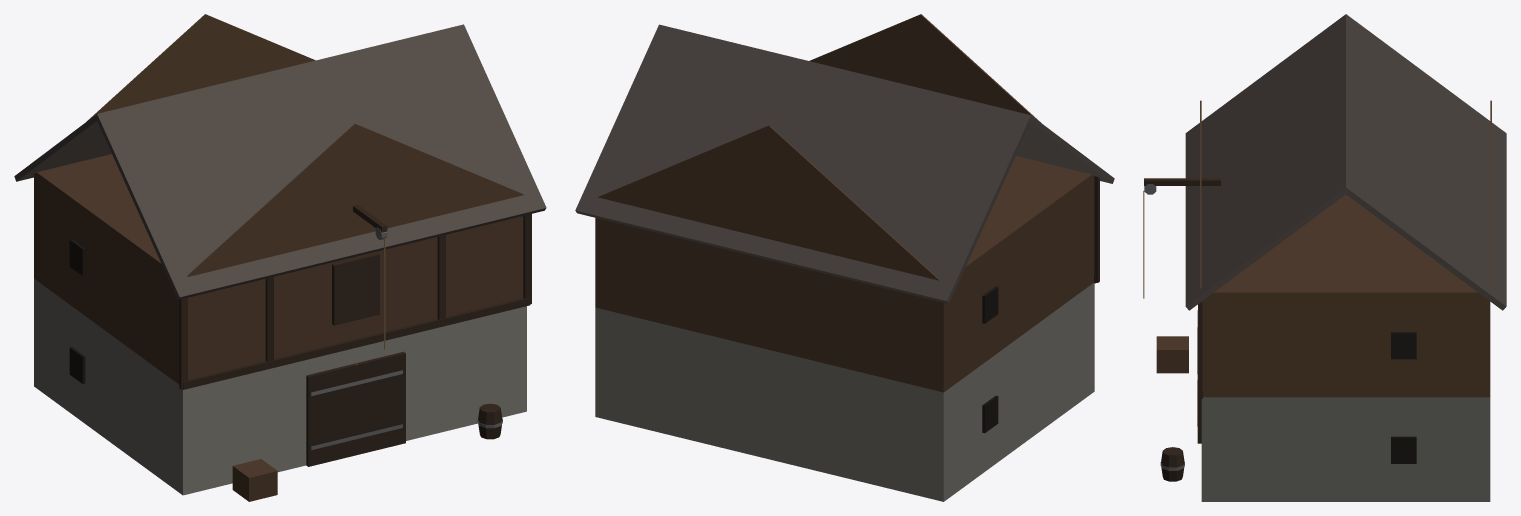
Rendered from walk_prop_warehouse.glb.
The picture shows the model from 3 angles, left to right: view 1: azimuth 30°, elevation 25°; view 2: azimuth 150°, elevation 25°; view 3: azimuth 270°, elevation 25°; orthographic projection. The views are drawn at different scales.
Visible parts, largest first — view 1: walk_prop_warehouse, walk_prop_warehouse_roof; view 2: walk_prop_warehouse, walk_prop_warehouse_roof; view 3: walk_prop_warehouse, walk_prop_warehouse_roof.
Part boxes in pixels (x1,y1,x2,y2): walk_prop_warehouse: (34, 154, 531, 501); walk_prop_warehouse_roof: (14, 14, 546, 299); walk_prop_warehouse: (595, 156, 1099, 501); walk_prop_warehouse_roof: (575, 14, 1114, 303); walk_prop_warehouse: (1143, 178, 1490, 501); walk_prop_warehouse_roof: (1185, 14, 1506, 310).
Size of what is drawn, in the model's own units: 12.8 by 11 by 11.31.
2 materials, 2 textured.
